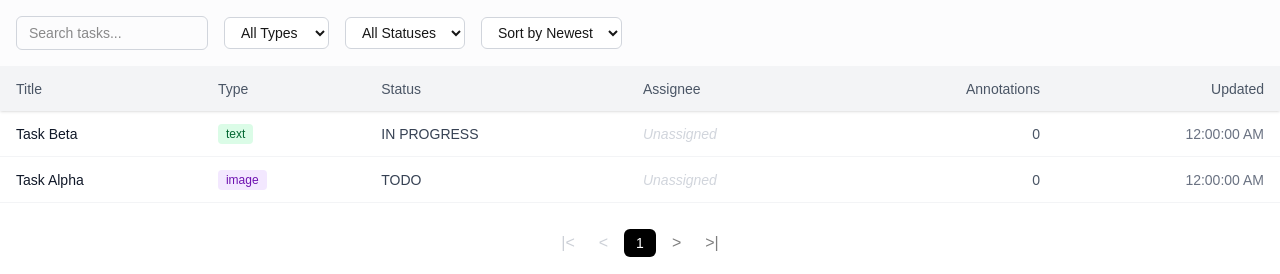
Test: TaskList Component › renders tasks and filters by type correctly
Expected: the text "Task Alpha" is shown, [0,156,202,202]
Expected: the text "Task Beta" is shown, [0,111,202,156]
Let's fire change event on it
Step 1. Select "Text" in the 1st dropdown → [276, 33], box [224,17,329,49]
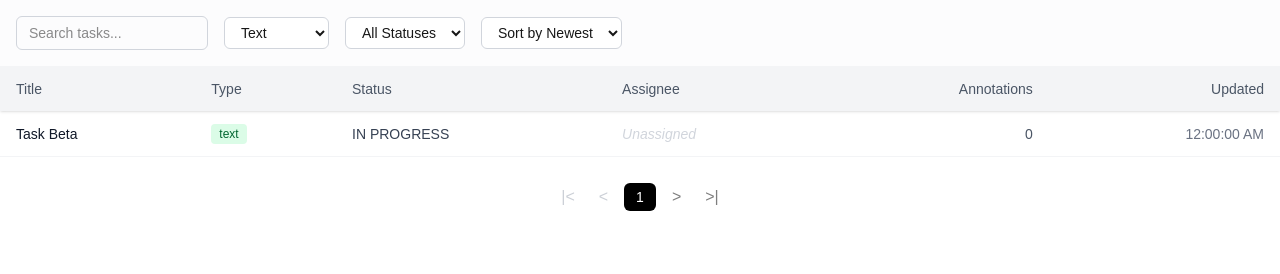
Expected: the text "Task Beta" is shown, [0,111,195,156]
Expected: the text "Task Alpha" is gone
